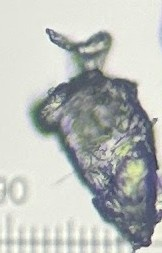microplastic: (27, 28, 161, 253)
